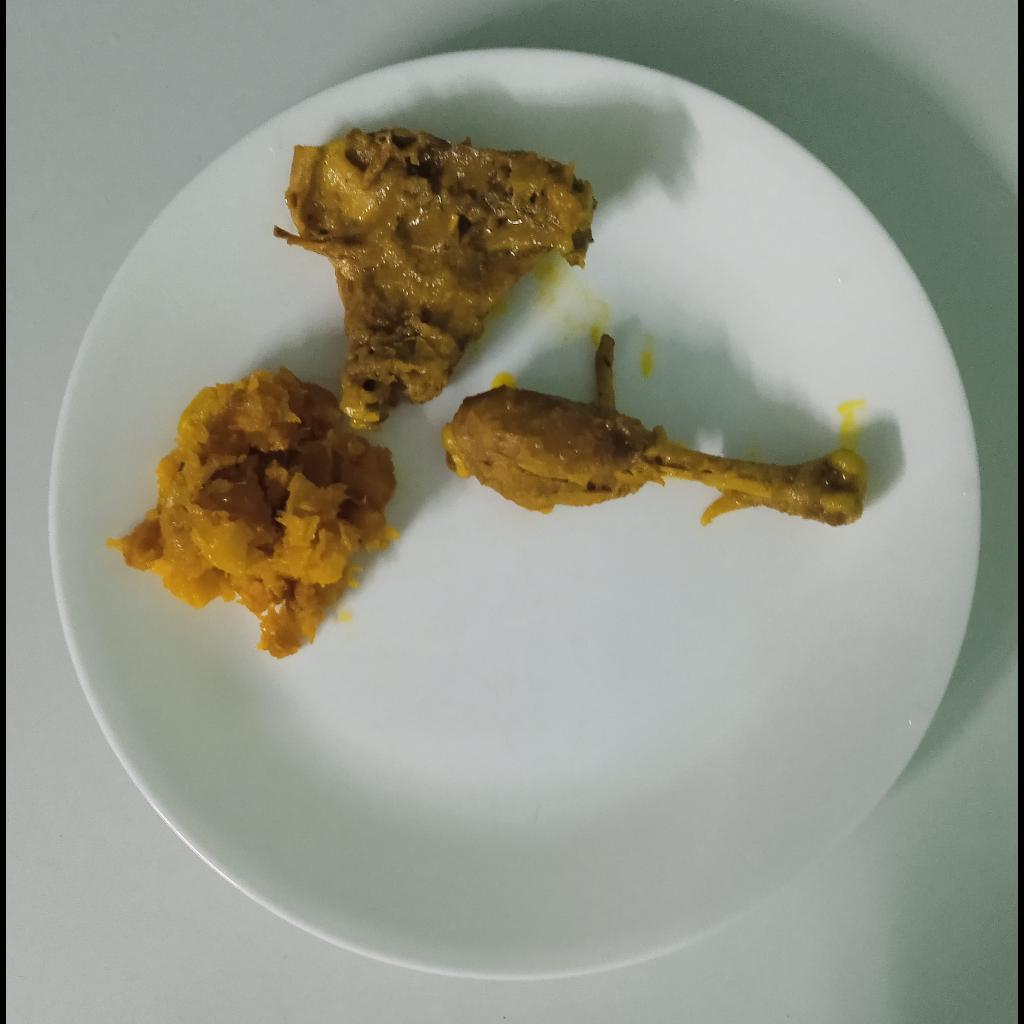chicken: (276, 127, 595, 432), (440, 326, 870, 525)
kumra-vaji: (111, 361, 402, 655)
